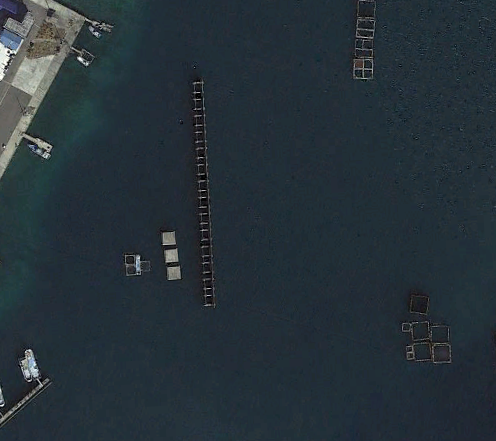house: (1, 29, 25, 53)
ship: (25, 346, 40, 381), (26, 142, 51, 160), (17, 354, 32, 384), (75, 55, 92, 69), (88, 24, 103, 39)
square: (351, 54, 379, 84), (406, 290, 433, 317), (429, 341, 456, 368), (351, 35, 381, 59), (407, 318, 433, 344), (350, 16, 378, 40), (406, 339, 432, 364), (427, 321, 451, 346), (354, 1, 379, 21), (158, 229, 180, 249), (159, 244, 179, 265), (164, 264, 183, 282)
